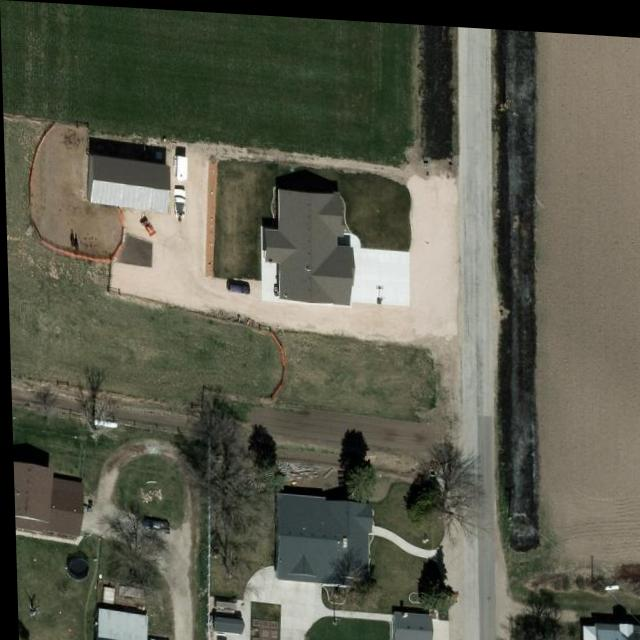vehicle: (137, 514, 168, 534), (173, 187, 185, 218), (225, 280, 249, 293)
